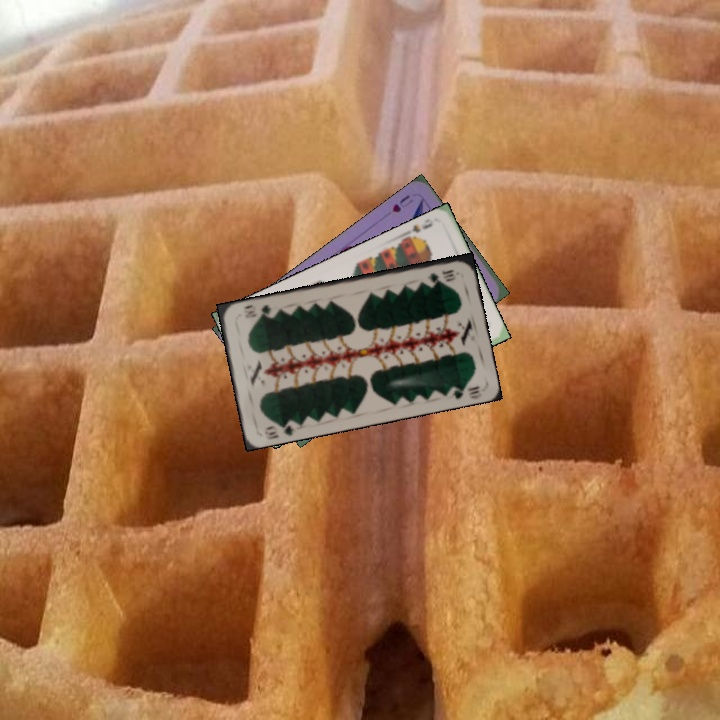G10: (261, 416, 298, 442), (423, 265, 457, 285)
HU: (388, 191, 416, 215)
S9: (399, 219, 435, 244)
